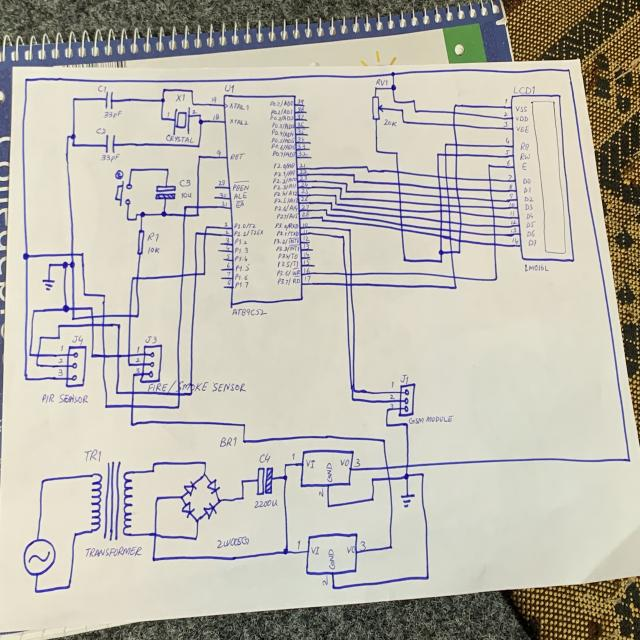capacitor: (256, 465, 275, 496), (154, 183, 177, 201), (104, 134, 116, 154), (105, 90, 114, 110)
crossover: (151, 530, 159, 539), (125, 351, 133, 359), (384, 463, 391, 472), (192, 270, 199, 278), (175, 390, 182, 398), (385, 474, 392, 482), (395, 180, 402, 188), (101, 352, 108, 360), (396, 190, 403, 197), (115, 352, 122, 359), (451, 122, 457, 129), (395, 168, 401, 175), (452, 108, 458, 115), (397, 198, 403, 205), (36, 351, 42, 358), (90, 321, 96, 328), (130, 389, 136, 396), (130, 402, 135, 410), (452, 274, 458, 280), (398, 214, 404, 220), (194, 204, 200, 210), (71, 305, 76, 312), (180, 272, 185, 279), (405, 462, 410, 468), (454, 152, 459, 158), (439, 218, 444, 224), (438, 208, 443, 214), (448, 235, 453, 241), (438, 233, 443, 239), (443, 151, 448, 157), (491, 213, 496, 219), (490, 197, 495, 203), (398, 206, 403, 212), (398, 222, 404, 227), (398, 228, 404, 233), (101, 313, 106, 319), (101, 322, 106, 328), (454, 142, 459, 147), (444, 175, 449, 180), (456, 195, 461, 200), (438, 194, 443, 199), (445, 186, 450, 191), (447, 209, 452, 214), (457, 203, 462, 208), (449, 249, 454, 254), (492, 232, 497, 237), (488, 187, 493, 192), (182, 213, 187, 218), (70, 252, 75, 257), (90, 314, 95, 319), (448, 219, 452, 225), (459, 220, 463, 226), (446, 194, 450, 200), (454, 175, 458, 181), (447, 202, 451, 208), (458, 228, 462, 234), (439, 226, 443, 232), (492, 222, 496, 228), (491, 204, 495, 210), (493, 241, 497, 247), (128, 313, 132, 319), (203, 231, 207, 237), (136, 275, 140, 281), (458, 210, 462, 215), (437, 174, 441, 179), (438, 185, 442, 190), (455, 186, 459, 191), (439, 202, 443, 207), (448, 228, 452, 233), (458, 238, 462, 243), (488, 177, 492, 182), (344, 282, 348, 287), (349, 272, 353, 276), (344, 272, 348, 276), (349, 282, 353, 286)
diode: (202, 502, 219, 520), (181, 500, 195, 519), (183, 480, 197, 497), (207, 478, 220, 495)
ground: (400, 493, 416, 508), (41, 278, 56, 291)
junction: (282, 546, 290, 557), (62, 304, 70, 313), (22, 252, 30, 261), (32, 586, 39, 596), (282, 473, 289, 482), (160, 209, 167, 218), (325, 501, 332, 510), (72, 530, 79, 539), (70, 95, 77, 104), (150, 555, 157, 564), (330, 583, 337, 592), (282, 461, 289, 469), (81, 290, 88, 298), (437, 248, 444, 256), (175, 403, 182, 411), (188, 390, 195, 398), (370, 475, 376, 484), (139, 210, 145, 219), (40, 476, 46, 485), (154, 494, 160, 503), (103, 402, 109, 411), (424, 574, 430, 582), (369, 495, 375, 503), (240, 494, 246, 502), (388, 543, 394, 551), (193, 534, 199, 542), (202, 459, 208, 467), (493, 275, 499, 283), (101, 292, 107, 300), (62, 261, 68, 269), (23, 76, 29, 84), (129, 420, 135, 428), (193, 230, 199, 238), (403, 472, 409, 480), (114, 388, 120, 396), (47, 261, 53, 269), (66, 582, 72, 590), (626, 456, 632, 464), (126, 361, 132, 369), (128, 166, 134, 173), (159, 115, 165, 122), (151, 461, 157, 468), (216, 497, 222, 504), (179, 494, 185, 501), (194, 517, 200, 524), (456, 248, 462, 255), (182, 204, 188, 211), (151, 466, 156, 474), (70, 261, 75, 269), (443, 140, 448, 148), (486, 162, 492, 168), (160, 97, 166, 103), (420, 471, 426, 477), (90, 352, 94, 361), (390, 71, 396, 77), (165, 166, 170, 173), (374, 148, 379, 155), (240, 478, 245, 485), (566, 67, 571, 74), (391, 84, 396, 91), (116, 322, 121, 329), (402, 256, 407, 263), (453, 284, 458, 291), (71, 133, 76, 140), (198, 119, 203, 125), (381, 438, 386, 444), (394, 150, 399, 156), (197, 154, 202, 160), (195, 212, 200, 218), (135, 313, 140, 319), (196, 143, 201, 149), (202, 471, 206, 478), (352, 387, 356, 394), (89, 306, 94, 311), (452, 103, 457, 108), (242, 422, 246, 428), (126, 216, 130, 222), (202, 271, 206, 277), (385, 422, 389, 428), (404, 422, 408, 428), (385, 407, 389, 413), (24, 375, 28, 381), (439, 258, 443, 264), (132, 372, 136, 378), (71, 315, 75, 321), (57, 323, 61, 329), (32, 308, 36, 314), (34, 362, 38, 368), (71, 142, 75, 148), (66, 134, 70, 140), (242, 438, 246, 444), (351, 396, 355, 402), (190, 88, 194, 94), (162, 87, 166, 93), (401, 119, 405, 124), (131, 276, 135, 281), (38, 336, 43, 340), (400, 108, 404, 113), (338, 186, 342, 191), (436, 152, 440, 157), (56, 335, 60, 340), (28, 352, 32, 357), (80, 252, 84, 257), (341, 234, 345, 239), (338, 196, 342, 201), (205, 224, 208, 230), (412, 99, 416, 103), (348, 228, 352, 232), (344, 189, 348, 193), (329, 207, 333, 211), (198, 114, 202, 118), (134, 218, 138, 222), (352, 172, 355, 177), (334, 193, 337, 198), (365, 164, 368, 169), (367, 169, 370, 174), (135, 212, 138, 217), (352, 180, 356, 183), (345, 182, 348, 186), (334, 202, 337, 206), (330, 201, 333, 205), (325, 213, 328, 217), (325, 208, 328, 212), (393, 100, 396, 104), (374, 86, 377, 90), (191, 102, 194, 106), (414, 109, 416, 114), (321, 219, 324, 222), (321, 216, 323, 218)
resistor: (371, 96, 384, 120), (136, 228, 146, 256)
source: (23, 538, 56, 578)
switch: (114, 179, 133, 207)
terminal: (140, 343, 164, 384), (65, 344, 87, 388), (397, 382, 416, 418)
text: (147, 379, 248, 394), (84, 544, 144, 558), (41, 393, 89, 404), (409, 414, 453, 425), (215, 534, 249, 548), (232, 306, 267, 318), (254, 497, 278, 509), (524, 262, 548, 274), (234, 228, 264, 237), (83, 448, 102, 462), (277, 275, 300, 286), (166, 134, 194, 143), (514, 84, 536, 95), (218, 436, 238, 448), (271, 128, 294, 138), (228, 101, 248, 112), (232, 180, 250, 192), (276, 267, 300, 276), (270, 99, 294, 108), (274, 204, 298, 213), (274, 169, 295, 179), (273, 237, 299, 245), (275, 222, 298, 231), (100, 153, 120, 163), (272, 150, 296, 158), (276, 244, 300, 252), (324, 462, 334, 481), (270, 108, 293, 116), (270, 144, 296, 151), (327, 549, 336, 569), (272, 122, 294, 130), (273, 162, 295, 170), (269, 115, 294, 122), (277, 260, 298, 268), (272, 177, 296, 184), (274, 190, 298, 197), (274, 198, 298, 205), (273, 183, 296, 190), (276, 213, 299, 220), (276, 230, 299, 237), (278, 252, 298, 260), (234, 222, 256, 229), (103, 110, 122, 118), (230, 118, 248, 126), (72, 334, 84, 346), (259, 452, 271, 464), (147, 231, 159, 243), (235, 263, 251, 272), (271, 137, 295, 143), (515, 125, 530, 134), (233, 191, 248, 200), (229, 152, 245, 160), (383, 119, 397, 128), (224, 83, 235, 94), (234, 281, 249, 289), (147, 246, 161, 254), (234, 273, 248, 281), (345, 544, 355, 555), (376, 78, 388, 87), (519, 152, 531, 161), (179, 179, 191, 188), (234, 247, 249, 254), (144, 336, 157, 344), (310, 545, 320, 555), (525, 220, 536, 229), (234, 238, 248, 245), (234, 255, 248, 262), (515, 104, 527, 112), (180, 192, 192, 200), (515, 115, 528, 122), (306, 458, 315, 468), (175, 93, 185, 102), (400, 374, 409, 384), (340, 458, 350, 467), (520, 142, 530, 151), (98, 85, 108, 94), (95, 127, 106, 135), (359, 540, 366, 552), (353, 458, 361, 467), (528, 239, 537, 247), (525, 212, 534, 220), (522, 177, 531, 185), (524, 203, 533, 211), (524, 195, 534, 202), (322, 575, 328, 586), (527, 230, 535, 238), (524, 186, 532, 194), (236, 200, 244, 208), (290, 452, 296, 462), (212, 113, 220, 120), (218, 179, 226, 186), (220, 200, 228, 207), (304, 275, 311, 283), (318, 488, 324, 497), (522, 162, 528, 171), (58, 368, 64, 377), (301, 188, 310, 194), (301, 211, 310, 217), (296, 540, 301, 550), (298, 151, 308, 156), (57, 357, 64, 364), (297, 98, 304, 105), (297, 106, 304, 113), (297, 121, 304, 128), (297, 136, 304, 143), (510, 219, 518, 225), (211, 96, 217, 104), (219, 192, 227, 198), (296, 114, 304, 120), (297, 128, 305, 134), (298, 162, 306, 168), (299, 175, 307, 181), (300, 196, 308, 202), (301, 204, 309, 210), (304, 266, 310, 274), (505, 136, 510, 145), (216, 149, 221, 158), (510, 227, 517, 233), (512, 237, 518, 244), (303, 235, 310, 241), (303, 243, 309, 250), (304, 258, 310, 265), (506, 158, 511, 166), (59, 344, 64, 352), (390, 380, 394, 390), (298, 144, 306, 149), (299, 169, 307, 174), (300, 182, 308, 187), (390, 394, 396, 400), (192, 109, 198, 115), (302, 222, 308, 228), (135, 357, 141, 363), (508, 183, 513, 190), (226, 253, 231, 260), (304, 251, 309, 258), (135, 367, 140, 374), (136, 346, 140, 354), (503, 111, 508, 117), (503, 121, 508, 127), (505, 149, 510, 155), (509, 202, 515, 207), (389, 403, 394, 409), (223, 221, 228, 227), (224, 229, 230, 234), (508, 173, 512, 180), (226, 237, 230, 244), (226, 244, 230, 251), (227, 279, 231, 286), (504, 98, 508, 104), (509, 193, 513, 199), (510, 210, 514, 216), (226, 262, 230, 268), (303, 228, 307, 234), (167, 111, 170, 118), (227, 271, 230, 277)
transformer: (91, 460, 134, 542)
